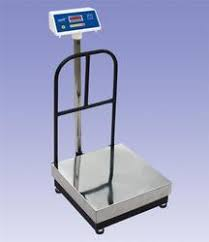Industrial Scale: (48, 7, 174, 235)
